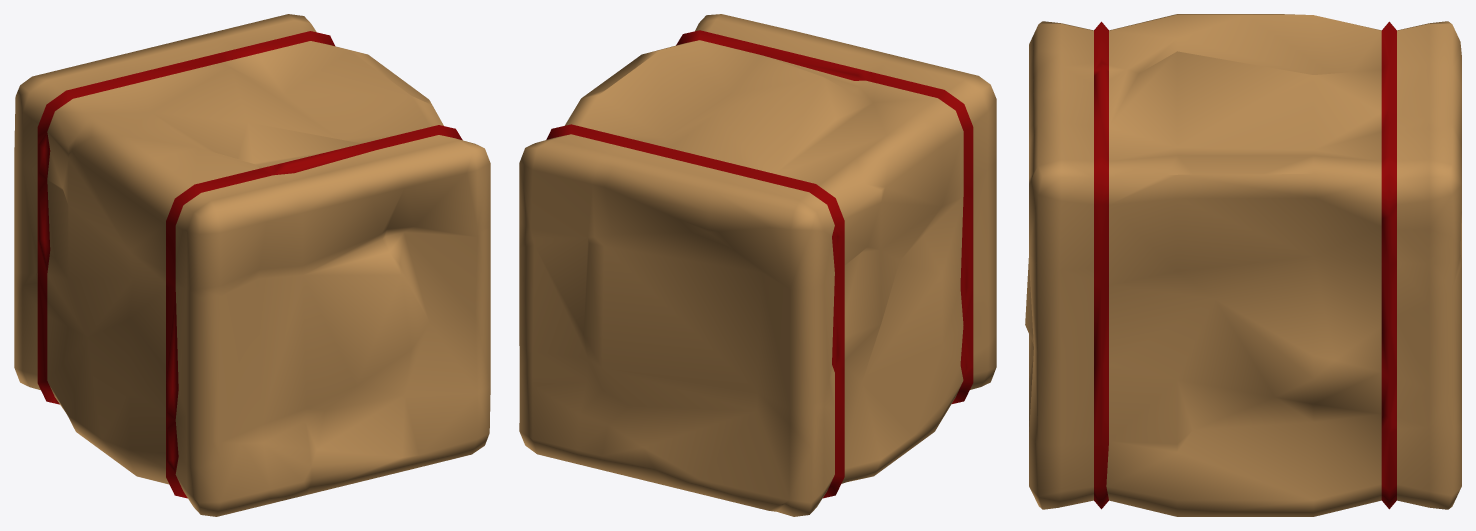
The model's file is MSH_int_StrawRoll_b.fbx.
The picture shows the model from 3 angles, left to right: view 1: azimuth 30°, elevation 25°; view 2: azimuth 150°, elevation 25°; view 3: azimuth 270°, elevation 25°; orthographic projection. The views are drawn at different scales.
Parts seen in each view (by area): view 1: Strawrollv2; view 2: Strawrollv2; view 3: Strawrollv2.
Part boxes in pixels (x1,y1,x2,y2): Strawrollv2: (14,14,490,516); Strawrollv2: (519,14,996,516); Strawrollv2: (1025,14,1461,516).
Size of the model in its own units: 11.41 by 11.63 by 12.27.
